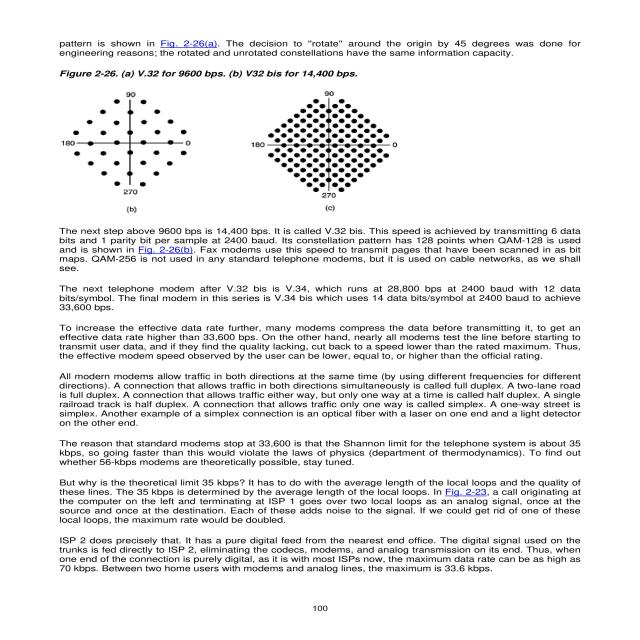diagram: (31, 65, 474, 220)
